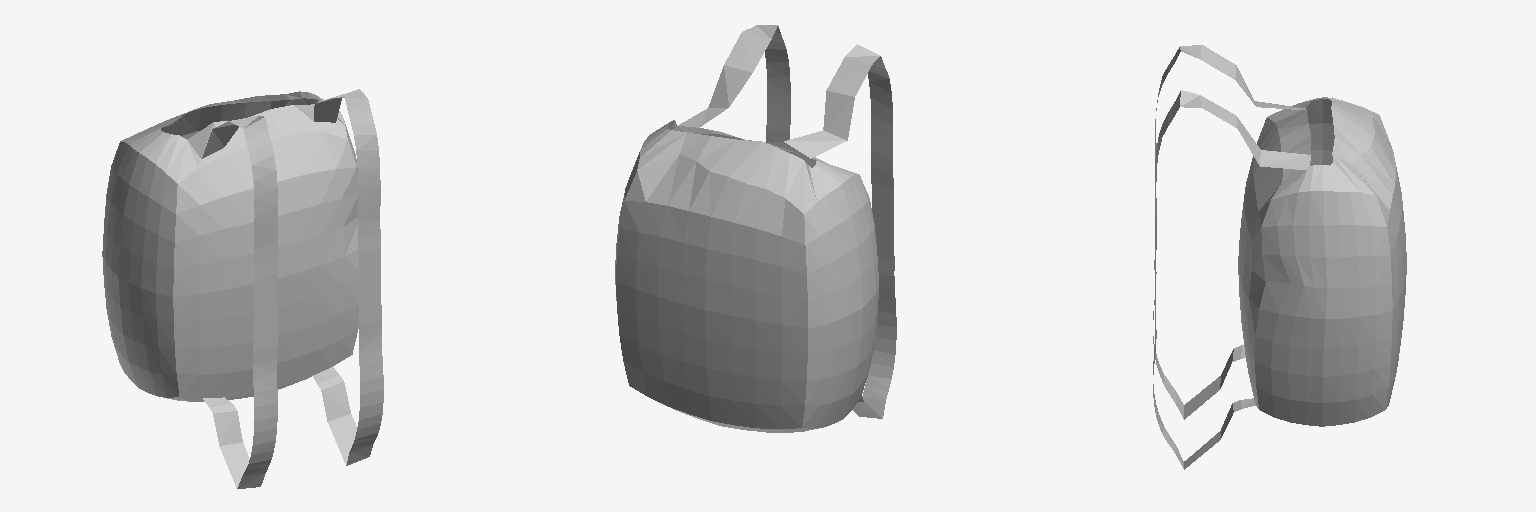
File: bag_with_smallopening.obj
3 views of the same model, side by side, from view 1: azimuth 30°, elevation 25°; view 2: azimuth 150°, elevation 25°; view 3: azimuth 270°, elevation 25° (orthographic).
Parts seen in each view (by area): view 1: backpack_1.002; view 2: backpack_1.002; view 3: backpack_1.002.
Part boxes in pixels (x1,y1,x2,y2): backpack_1.002: (102,89,383,488); backpack_1.002: (615,25,896,432); backpack_1.002: (1153,45,1406,469).
Bounding box in the file's own units: 0.7415 × 1.13 × 0.7.